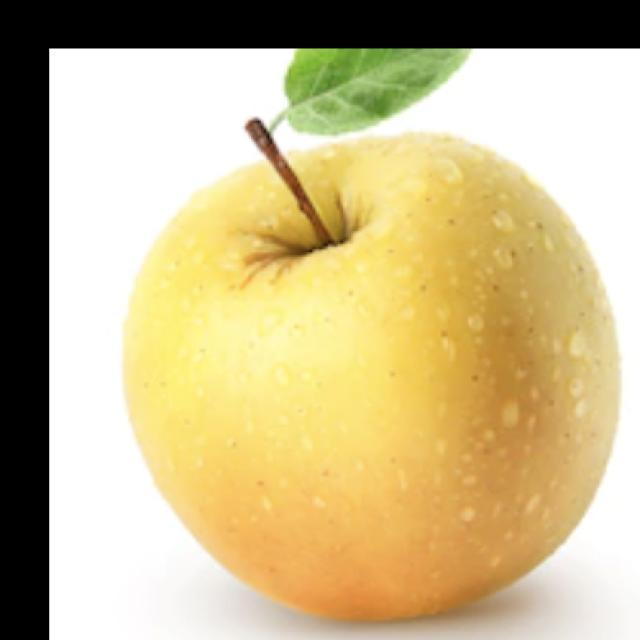Apple: (121, 117, 622, 623)
